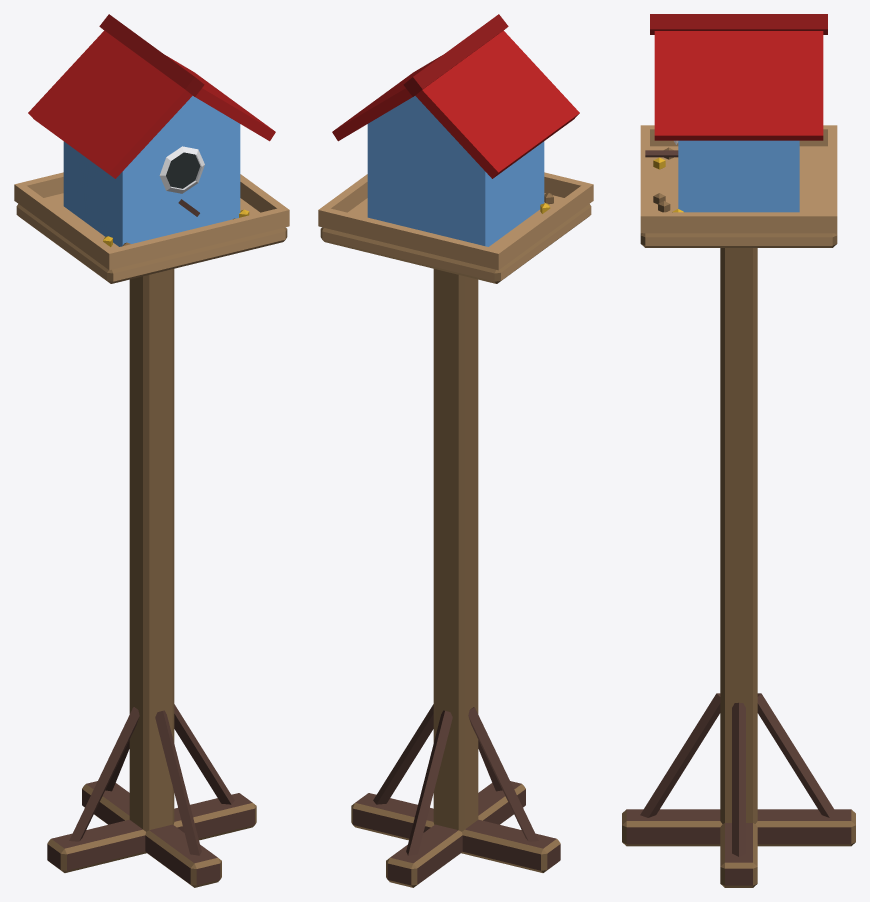
The model's file is vogelhaus.glb.
3 renders of one model, left to right at view 1: azimuth 30°, elevation 25°; view 2: azimuth 150°, elevation 25°; view 3: azimuth 270°, elevation 25°, orthographic. The views are drawn at different scales.
Visible parts, largest first — view 1: vogelhaus-m; view 2: vogelhaus-m; view 3: vogelhaus-m.
Part boxes in pixels (left/top/right/bottom): vogelhaus-m: left=14, top=14, right=289, bottom=887; vogelhaus-m: left=318, top=14, right=593, bottom=887; vogelhaus-m: left=622, top=14, right=855, bottom=887.
Size of the model in its own units: 0.5 by 1.95 by 0.5.
